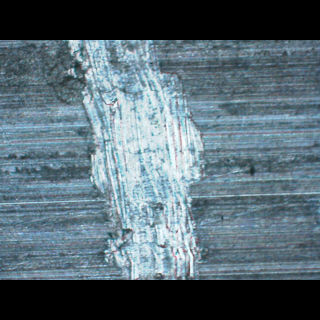d: (55, 40, 212, 279)
